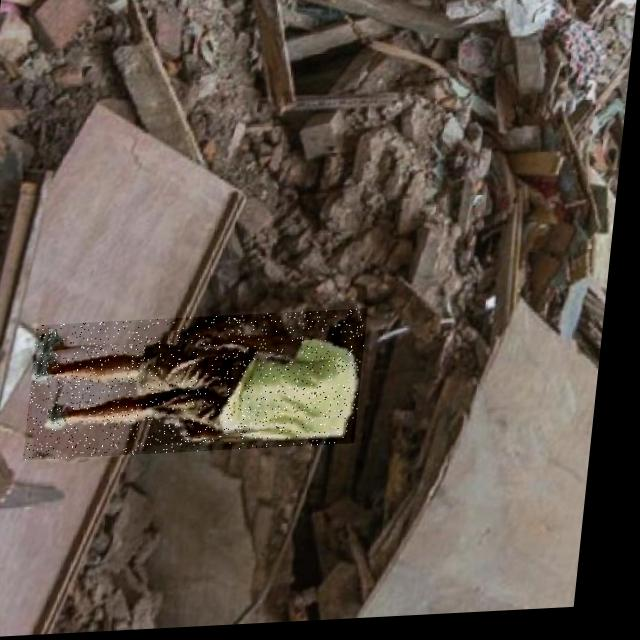Person in Rubble: (32, 313, 374, 461)
